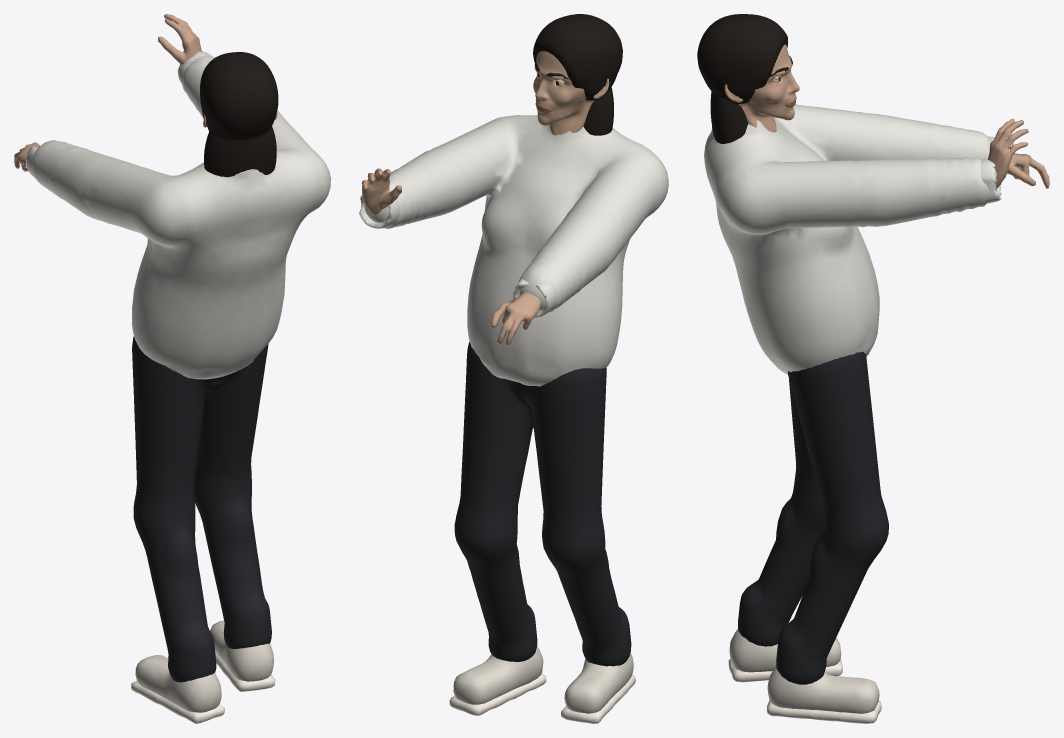
File: girl_bar.glb
3 renders of one model, left to right at view 1: azimuth 30°, elevation 25°; view 2: azimuth 150°, elevation 25°; view 3: azimuth 270°, elevation 25°, orthographic. The views are drawn at different scales.
Visible parts, largest first — view 1: girl_bar_body, girl_bar_head, girl_bar_hands; view 2: girl_bar_body, girl_bar_head, girl_bar_hands; view 3: girl_bar_body, girl_bar_head, girl_bar_hands.
Part boxes in pixels (x1=…): girl_bar_body: x1=31, y1=55, x2=330, y2=723; girl_bar_head: x1=200, y1=52, x2=278, y2=177; girl_bar_hands: x1=14, y1=14, x2=212, y2=176; girl_bar_body: x1=364, y1=115, x2=668, y2=723; girl_bar_head: x1=533, y1=14, x2=622, y2=135; girl_bar_hands: x1=359, y1=168, x2=556, y2=345; girl_bar_body: x1=704, y1=104, x2=996, y2=723; girl_bar_head: x1=697, y1=14, x2=799, y2=143; girl_bar_hands: x1=980, y1=119, x2=1049, y2=203.
Size of the model in its own units: 0.5007 by 1.55 by 0.7346.
